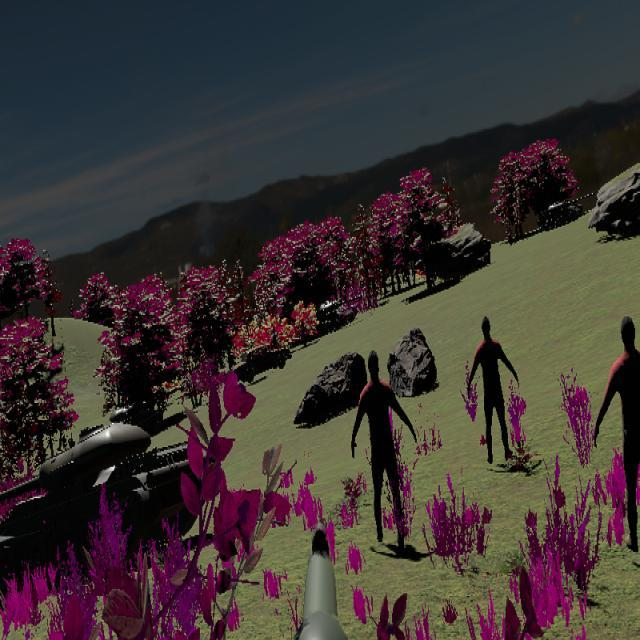Human: (591, 310, 640, 558)
Tank: (1, 419, 222, 605)
